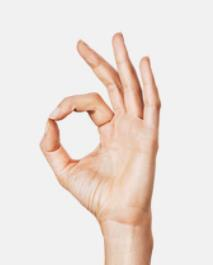left: (36, 30, 166, 215)
